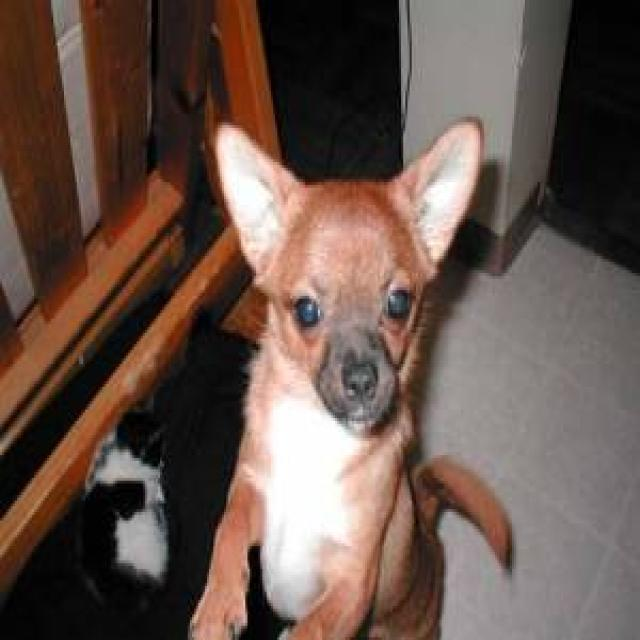dog-chihuahua: (186, 105, 521, 634)
